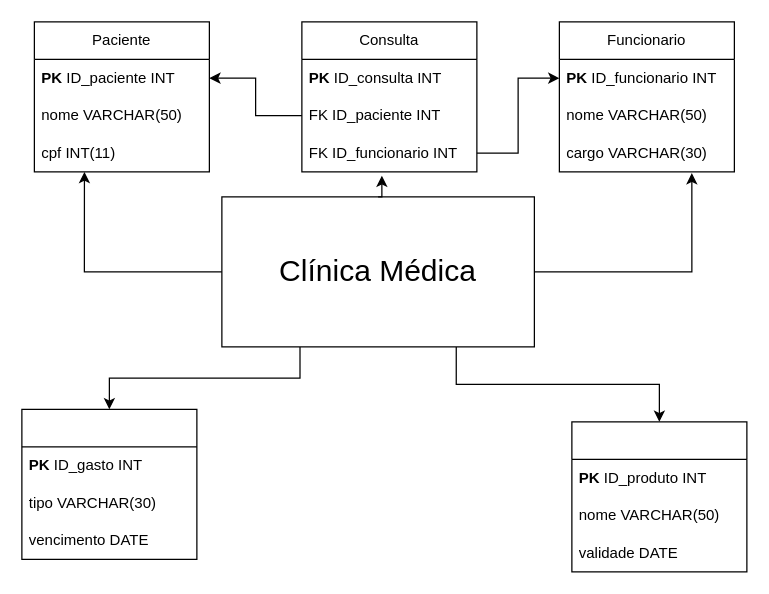
The diagram is 769 pixels wide and 594 high, and some of its shapes have lost their labels. The shapes that lost their labels are listed below. From the top down, each one's box as (x1, y1, x2, y2) in pixels, then its label:
(21, 408, 197, 559): Financas
(571, 421, 747, 572): Estoque
